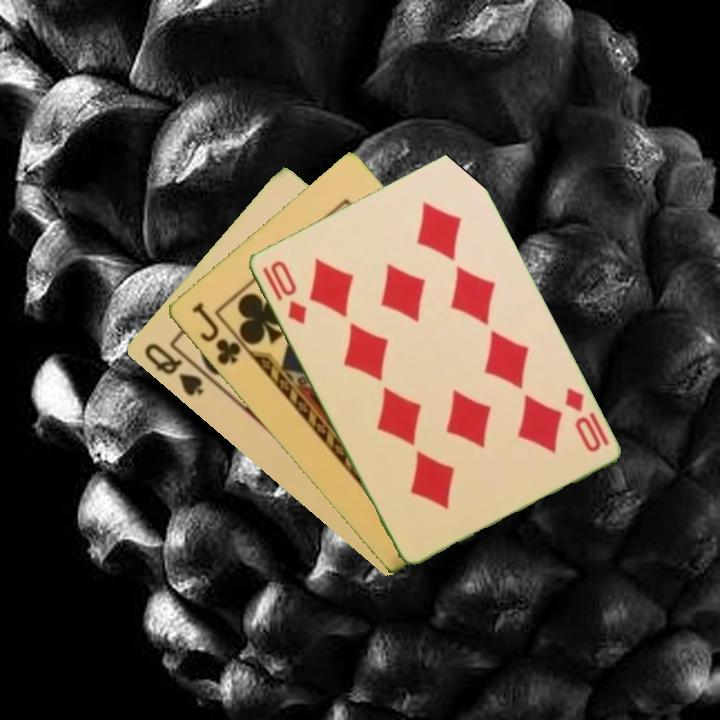10d: (258, 256, 310, 327), (560, 383, 604, 455)
Jc: (188, 299, 244, 368)
Qs: (140, 339, 206, 399)
